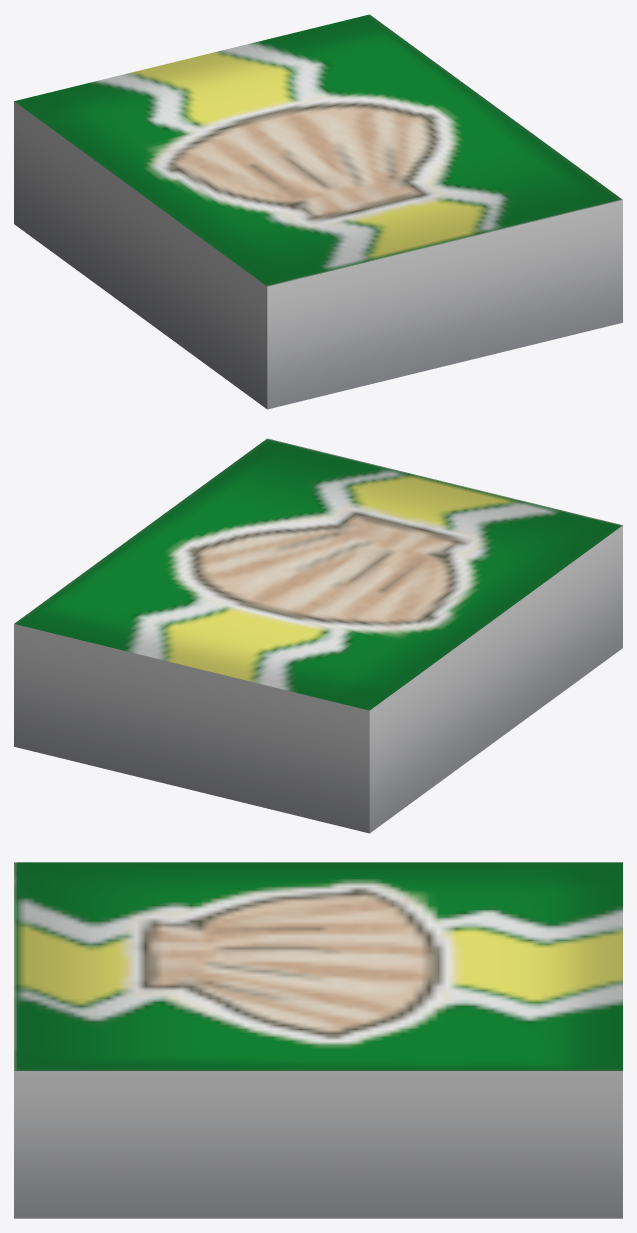
Rendered from giftgoods073e.fbx.
3 views of the same model, one above another, from view 1: azimuth 30°, elevation 25°; view 2: azimuth 150°, elevation 25°; view 3: azimuth 270°, elevation 25° (orthographic). The views are drawn at different scales.
Parts seen in each view (by area): view 1: giftgoods073e; view 2: giftgoods073e; view 3: giftgoods073e.
Boxes of the visible parts, box(x1,y1,x2,y2) form: giftgoods073e: box(14, 14, 622, 409); giftgoods073e: box(14, 438, 622, 833); giftgoods073e: box(14, 862, 622, 1218).
Size of the model in its own units: 0.2565 by 0.0847 by 0.3164.
